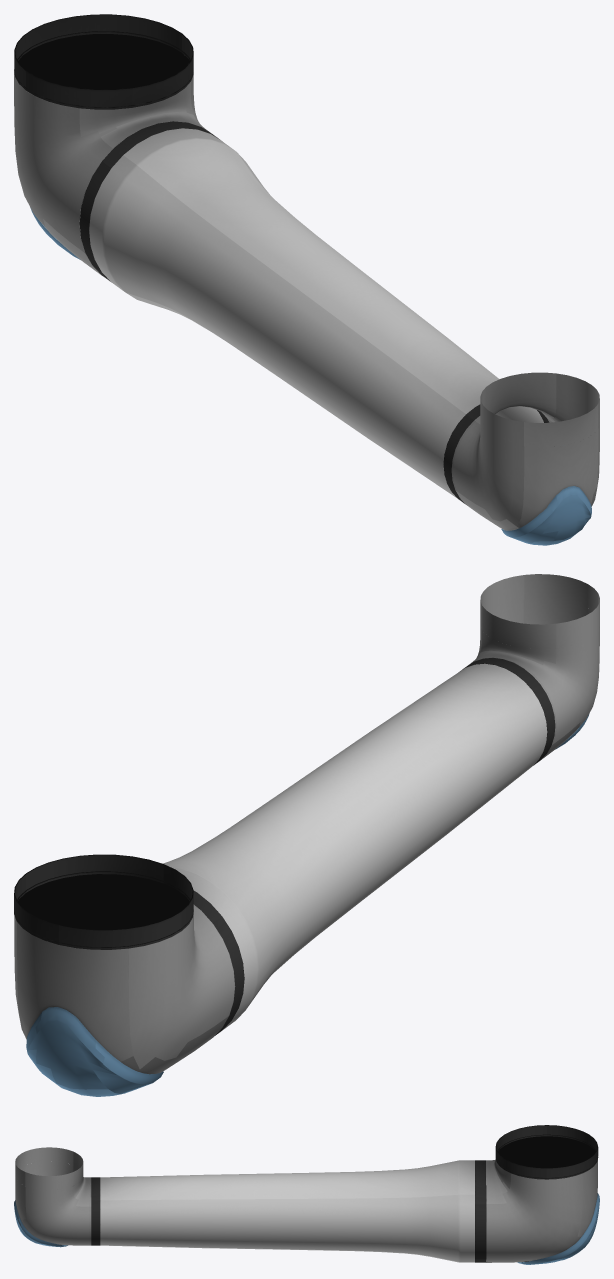
The model's file is forearm.obj.
3 renders of one model, top to bottom at view 1: azimuth 30°, elevation 25°; view 2: azimuth 150°, elevation 25°; view 3: azimuth 270°, elevation 25°, orthographic. The views are drawn at different scales.
Size of the model in its own units: 0.1505 by 0.1834 by 0.8583.
1 material, 1 textured.
